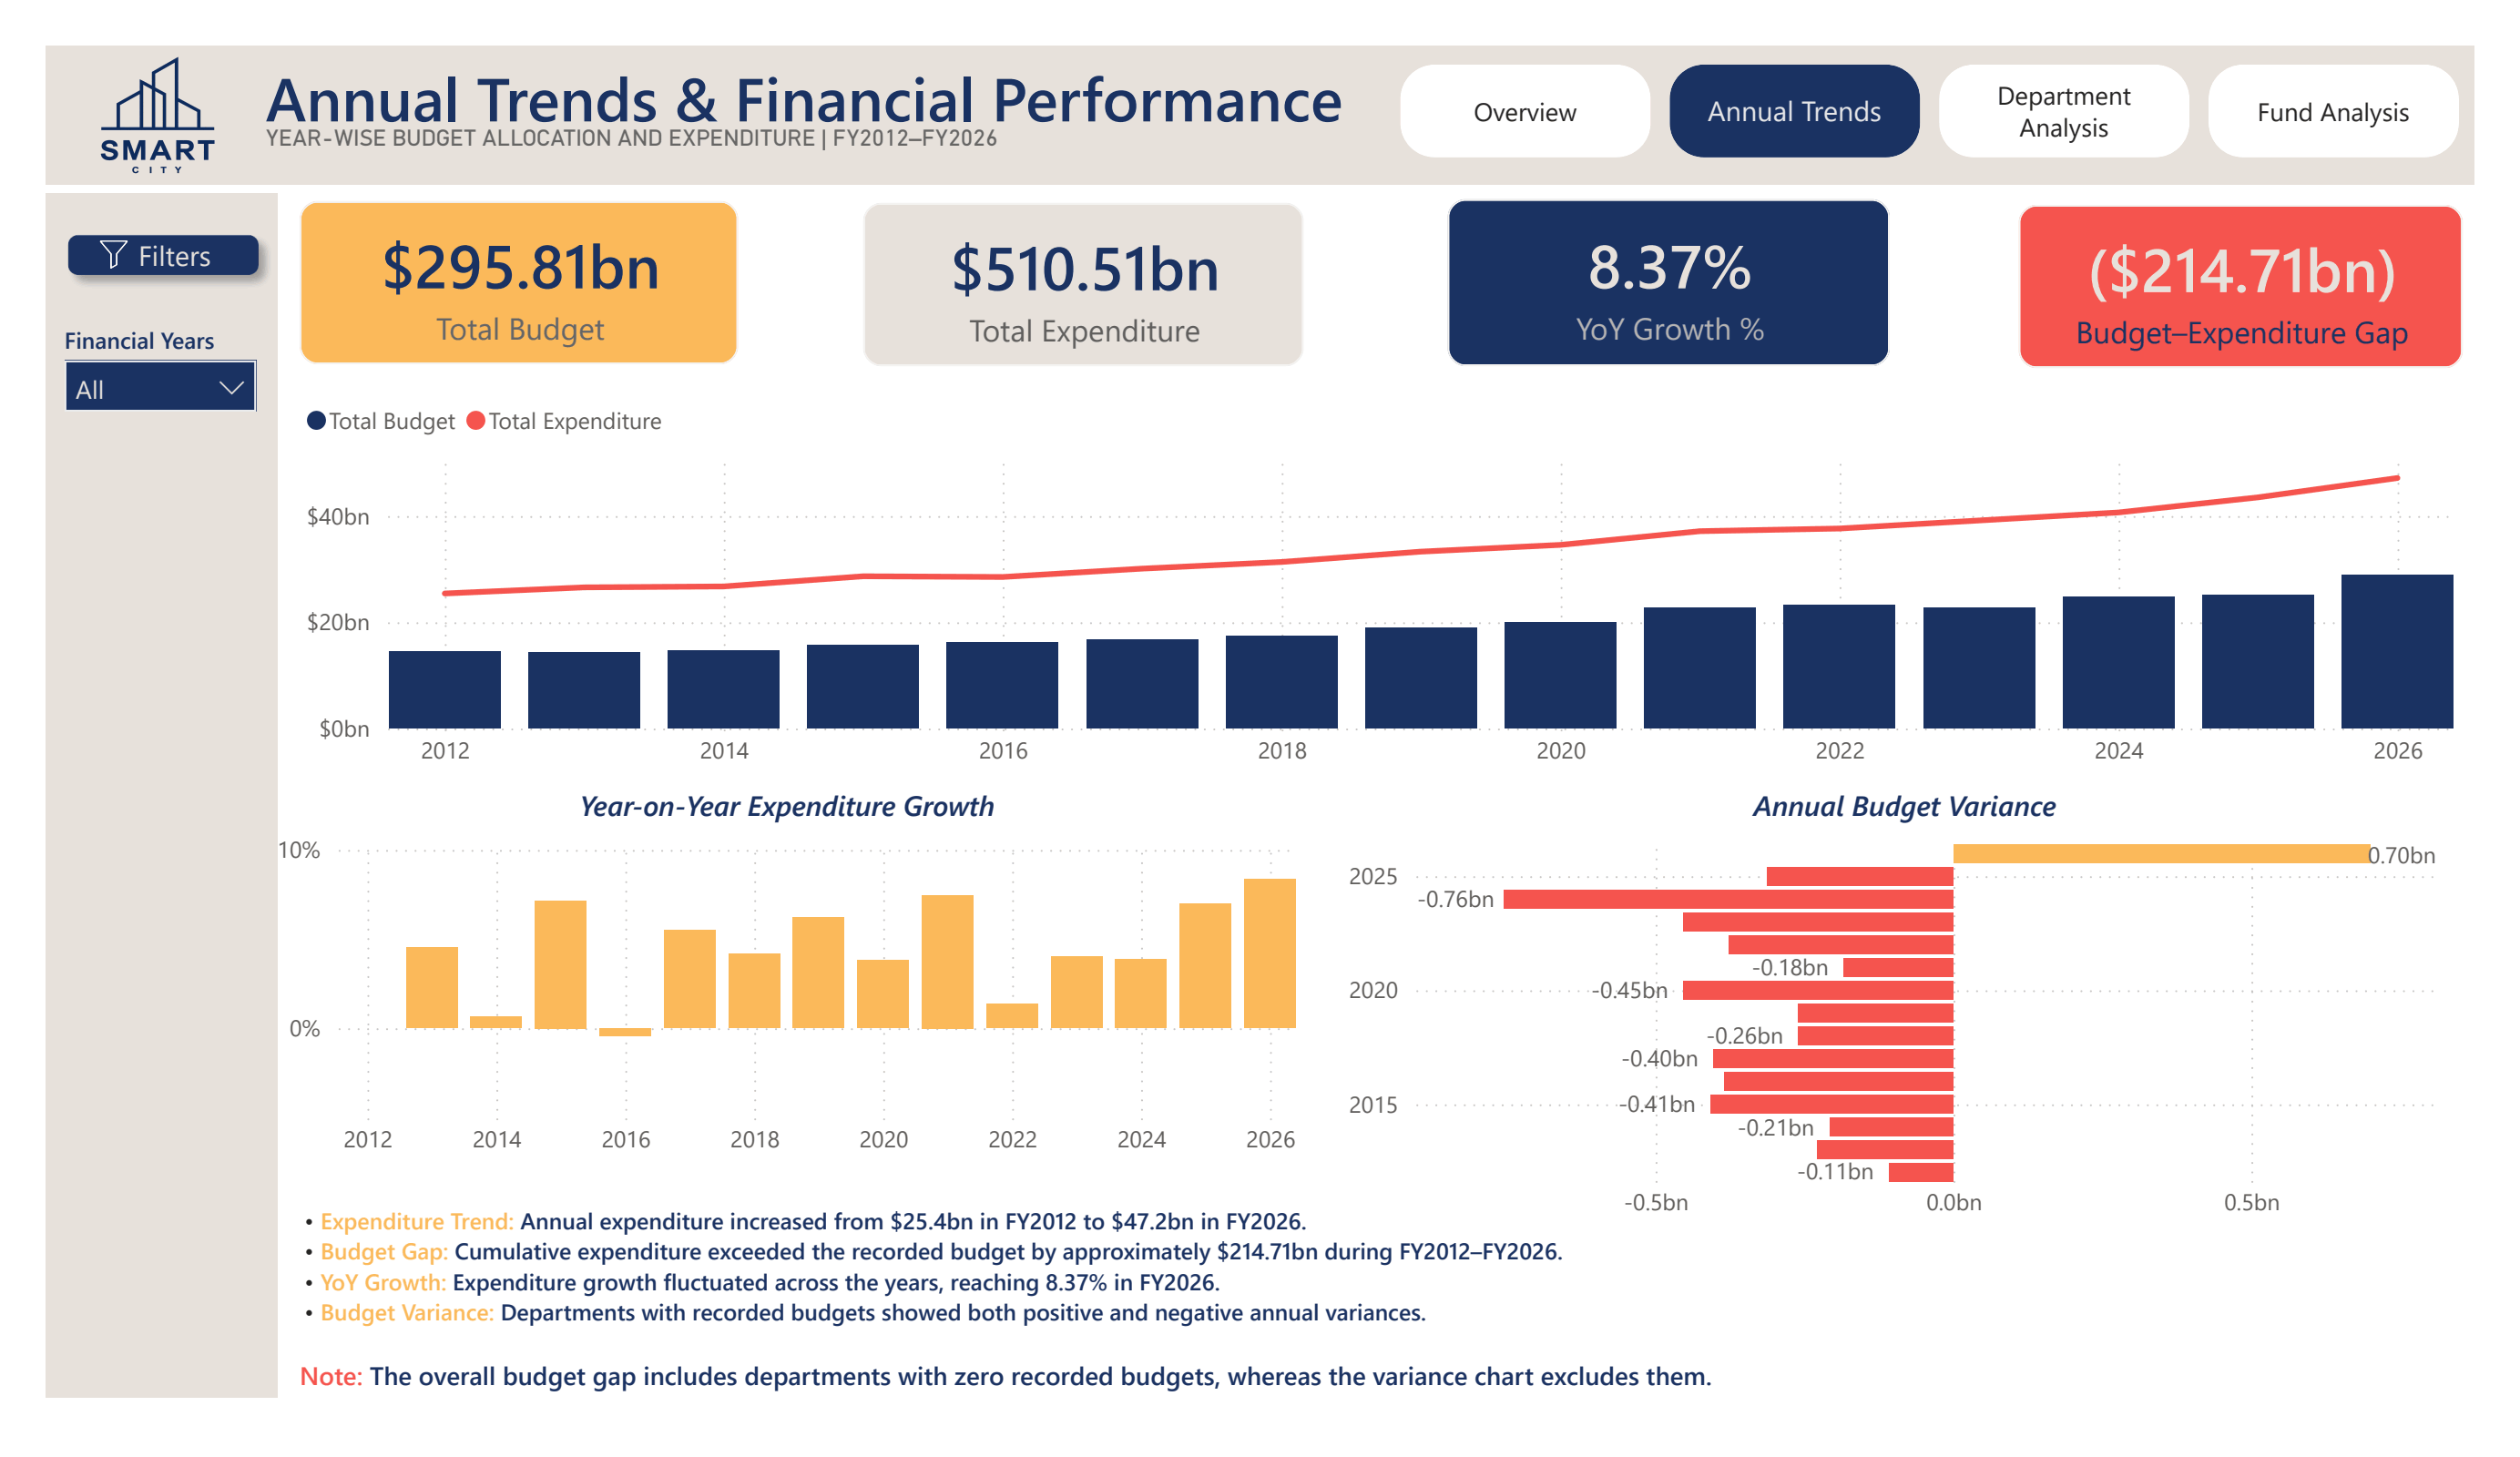

This screenshot's page, from the dashboard's own definition file:
{"tool":"powerbi","page":{"name":"Annual Trends","canvas":[1280,720],"ordinal":1},"visuals":[{"type":"shape","box":[0,77.8,122.2,635],"z":0},{"type":"shape","box":[0,0,1280,72.9],"z":1000},{"type":"textbox","title":"LOS ANGELES CITY BUDGET | FY2012–FY2026","box":[111.4,0,615.7,145.7],"z":2000},{"type":"image","box":[4.3,0,107.1,72.9],"z":3000},{"type":"textbox","box":[111.4,34.3,458.6,100],"z":4000},{"type":"shape","box":[2.5,91.2,118.8,38.4],"z":5000},{"type":"image","box":[27.9,98.4,15.8,24.2],"z":6000},{"type":"textbox","box":[43.6,95,87.7,38.2],"z":7000},{"type":"slicer","fields":{"Values":["Dim_FiscalYear.Fiscal Year"]},"box":[0,156.4,120.9,43.6],"z":8000},{"type":"textbox","box":[4.5,141,133.5,30],"z":9000},{"type":"cardVisual","fields":{"Data":["Measures (2).Total Expenditure"]},"box":[430.6,82.9,232.9,85.7],"z":10000},{"type":"cardVisual","fields":{"Data":["Measures (2).Total Budget"]},"box":[133.4,81.4,232.9,87.1],"z":11000},{"type":"cardVisual","fields":{"Data":["Measures (2).YoY Growth %"]},"box":[739.1,81.4,232.9,87.1],"z":12000},{"type":"cardVisual","fields":{"Data":["Measures (2).Budget Variance"]},"box":[1040,84,234,86],"z":13000},{"type":"lineClusteredColumnComboChart","fields":{"Y2":["Measures (2).Total Expenditure"],"Category":["Dim_FiscalYear.Fiscal Year"],"Y":["Measures (2).Total Budget"]},"box":[132,178,1142,212],"z":14000},{"type":"columnChart","title":"Year-on-Year Expenditure Growth","fields":{"Category":["Dim_FiscalYear.Fiscal Year"],"Y":["Measures (2).YoY Growth %"]},"box":[121.7,390,538.3,200],"z":15000},{"type":"clusteredBarChart","title":"Annual Budget Variance","fields":{"Category":["Dim_FiscalYear.Fiscal Year"],"Y":["Measures (2).Recorded Budget Variance"]},"box":[680,390,600,238.3],"z":16000},{"type":"textbox","box":[122,606,1076,114],"z":17000},{"type":"textbox","box":[128.9,686.7,1151.1,33.3],"z":18000},{"type":"pageNavigator","box":[714.3,10,560,48.6],"z":19000}]}

Visuals, with their boxes on the page's 1280x720 design canvas (x1, y1, x2, y2). These are canvas units, not pixel positions in the 2520x1457 screenshot, which may show the page scaled, cropped or inside an application window:
shape: 0,78,122,713
shape: 0,0,1280,73
"LOS ANGELES CITY BUDGET | FY2012–FY2026" textbox: 111,0,727,146
image: 4,0,111,73
textbox: 111,34,570,134
shape: 2,91,121,130
image: 28,98,44,123
textbox: 44,95,131,133
slicer - Dim_FiscalYear.Fiscal Year: 0,156,121,200
textbox: 4,141,138,171
cardVisual - Measures (2).Total Expenditure: 431,83,664,169
cardVisual - Measures (2).Total Budget: 133,81,366,168
cardVisual - Measures (2).YoY Growth %: 739,81,972,168
cardVisual - Measures (2).Budget Variance: 1040,84,1274,170
lineClusteredColumnComboChart - Measures (2).Total Expenditure x Dim_FiscalYear.Fiscal Year: 132,178,1274,390
"Year-on-Year Expenditure Growth" columnChart: 122,390,660,590
"Annual Budget Variance" clusteredBarChart: 680,390,1280,628
textbox: 122,606,1198,720
textbox: 129,687,1280,720
pageNavigator: 714,10,1274,59
